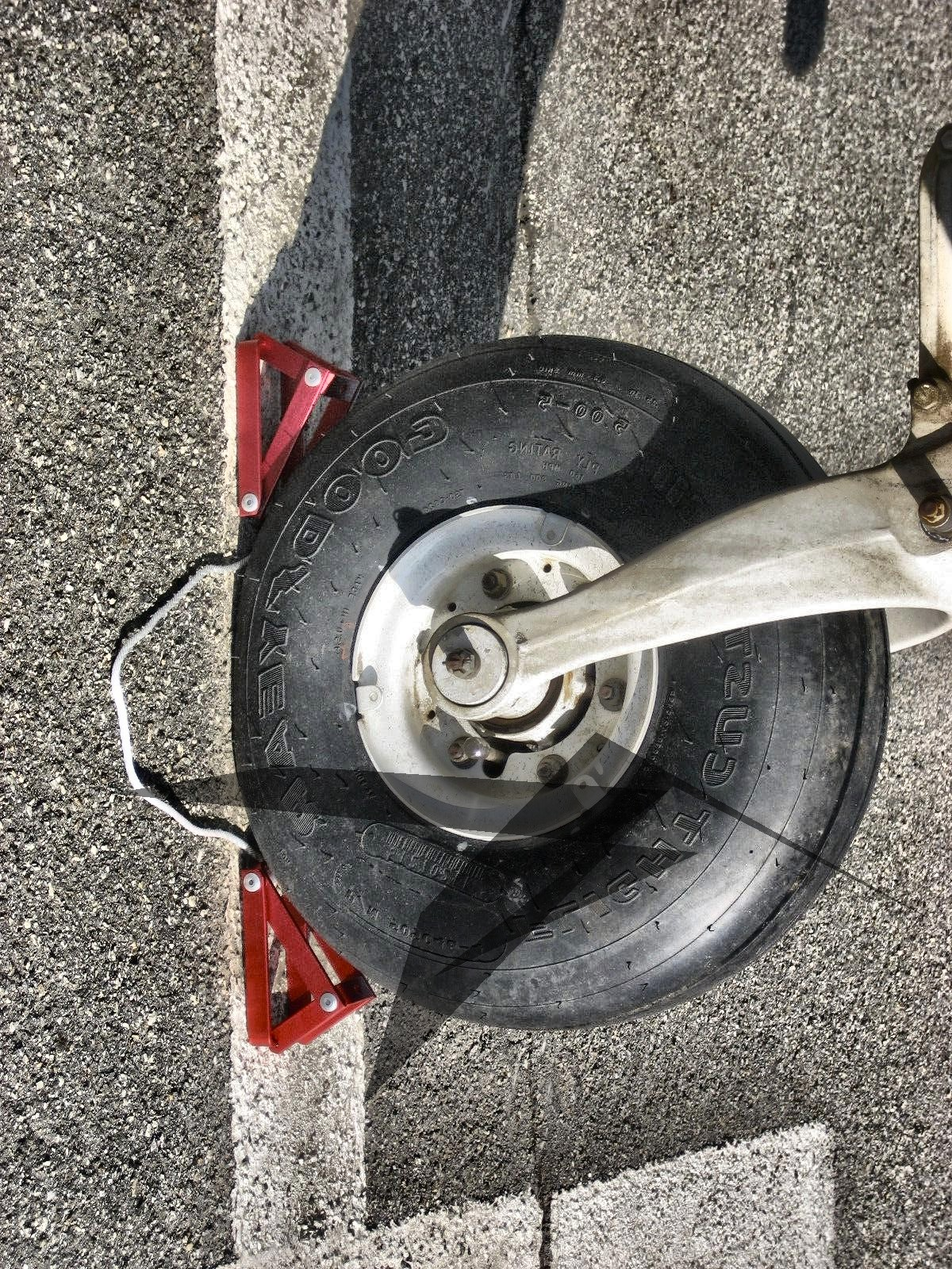chock: (240, 863, 376, 1060), (236, 328, 358, 521)
wheel: (248, 357, 889, 1029)
